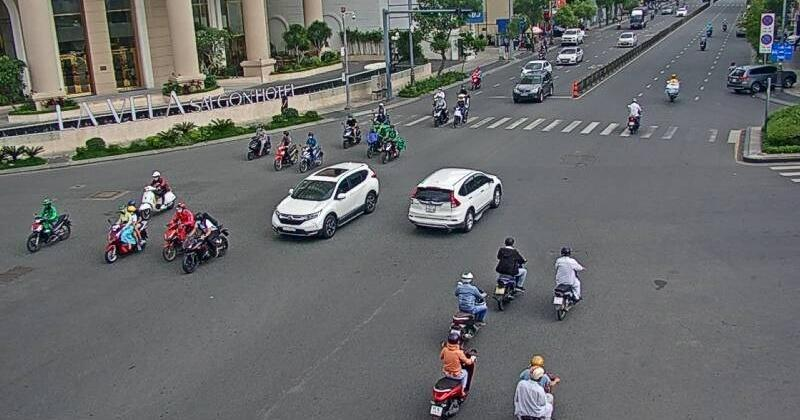xe hoi: (273, 161, 383, 241), (408, 165, 504, 233)
xe may: (426, 331, 478, 420), (103, 200, 150, 262), (180, 210, 228, 270), (490, 235, 527, 310), (548, 244, 584, 321), (451, 270, 487, 338), (27, 198, 72, 251), (299, 127, 326, 172), (379, 122, 406, 163), (246, 123, 272, 159), (273, 130, 297, 167), (339, 111, 360, 149)
